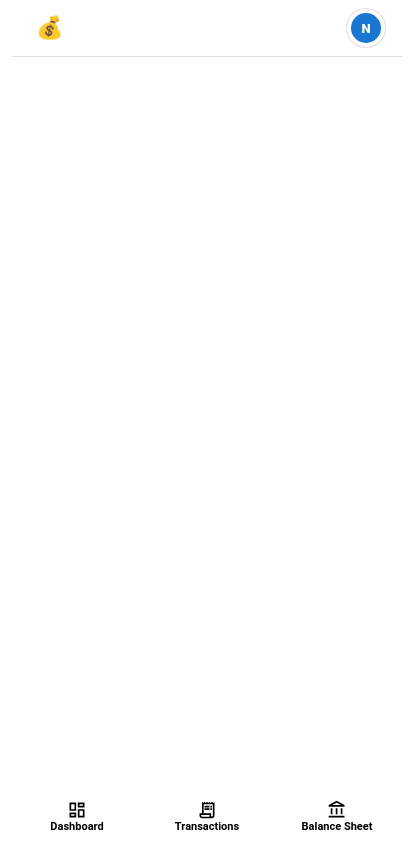
Test: TopBar › avatar menu lists the moved actions with labels
Step 1. Click the button named "Account menu" → click(366, 28), box top-left (346, 8), bottom-right (386, 48)
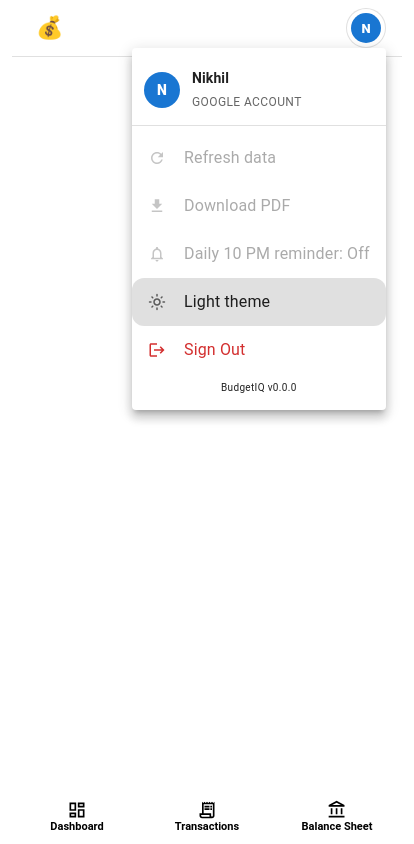
Check: the menu item "Refresh data" is shown, box top-left (148, 148), bottom-right (276, 167)
Check: the menu item "Download PDF" is shown, box top-left (148, 196), bottom-right (290, 215)
Check: the menu item "Daily 10 PM reminder: Off" is shown, box top-left (148, 244), bottom-right (370, 263)
